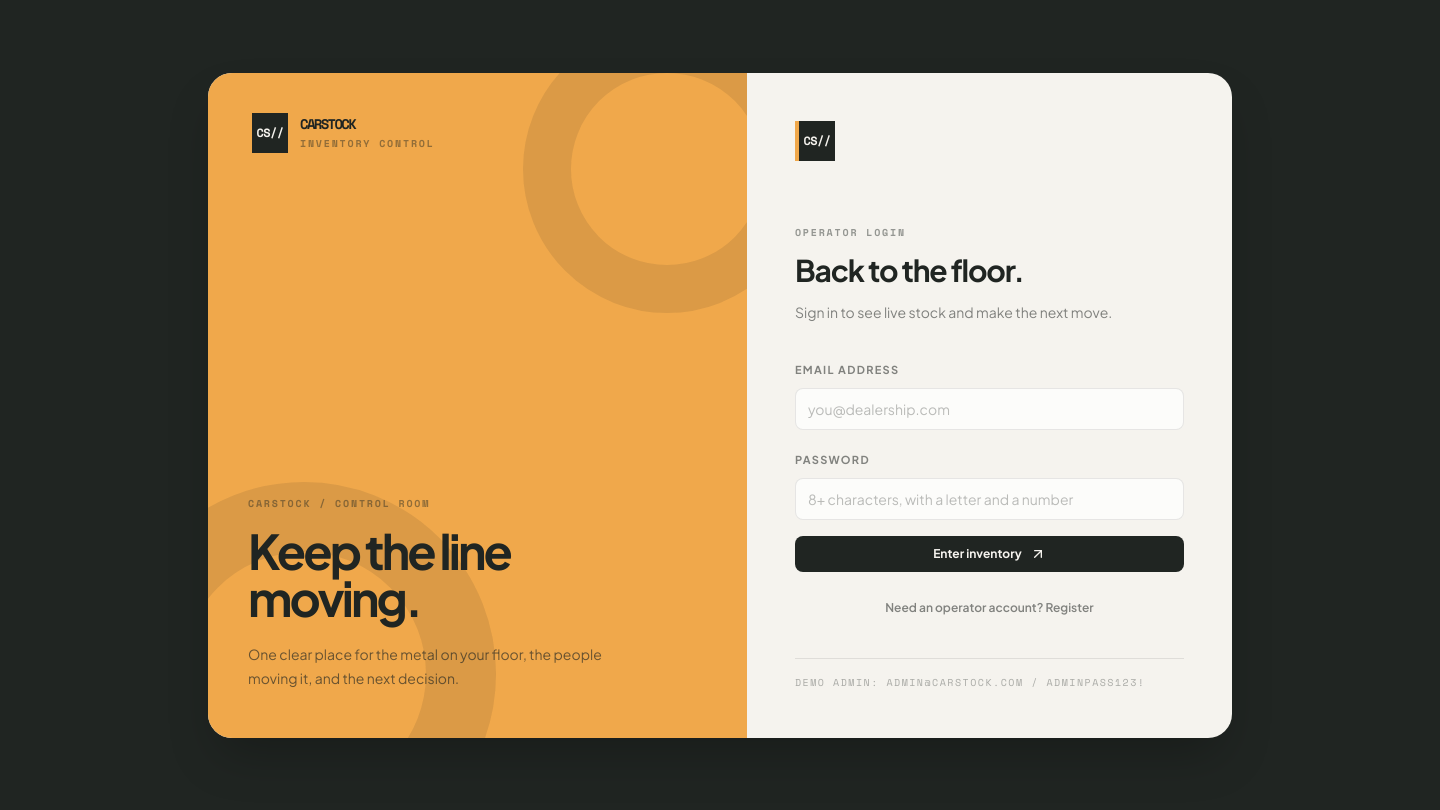
Scenario: AuthScreen › switches to registration and back
Click the button "Need an operator account? Register" at (989, 608), box [795,600,1184,616]
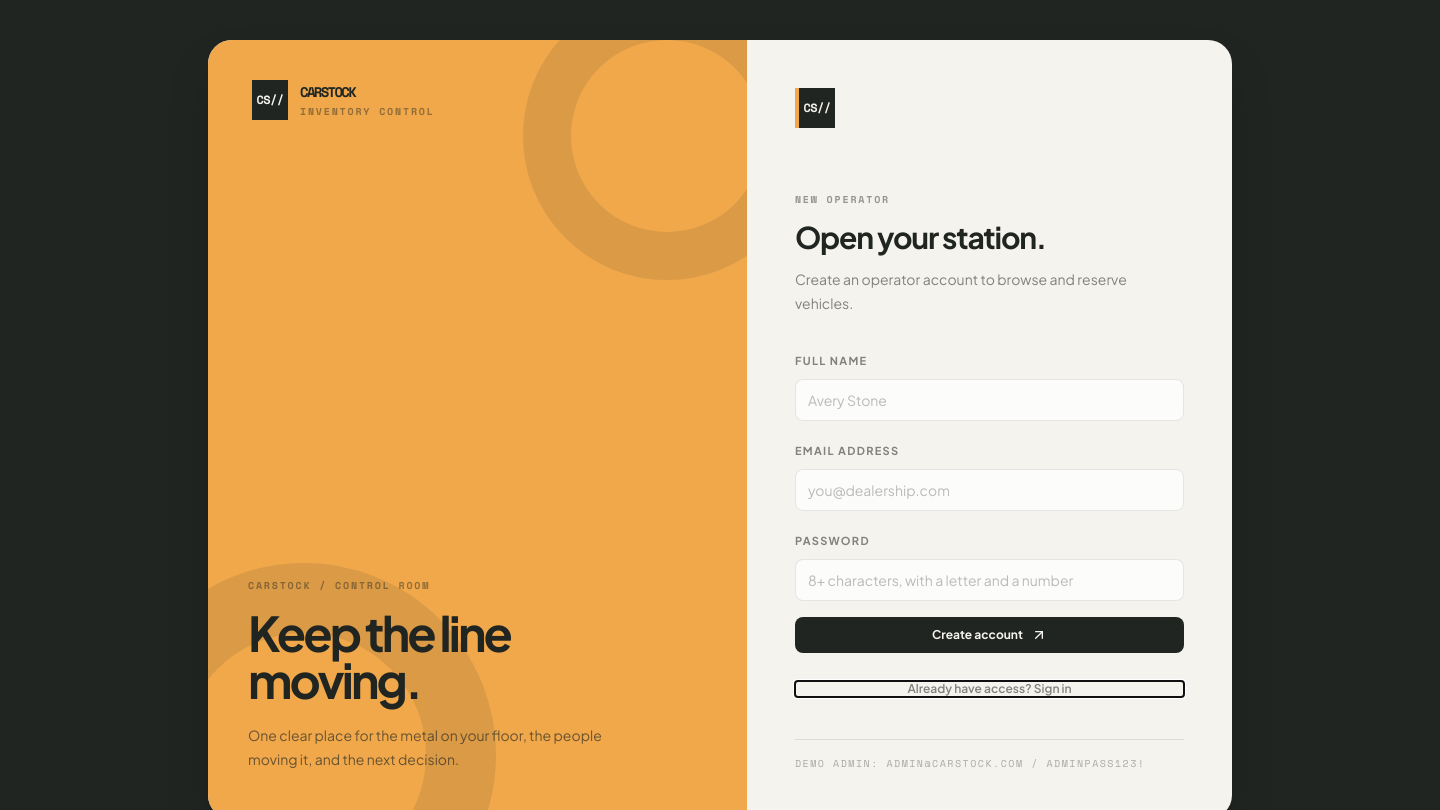
Expected: the heading "Open your station." is shown, [795,218,1046,256]
Expected: the field labelled "Full name" is shown, [795,379,1184,421]
Click the button "Already have access? Sign in" at (989, 689), box [795,681,1184,697]
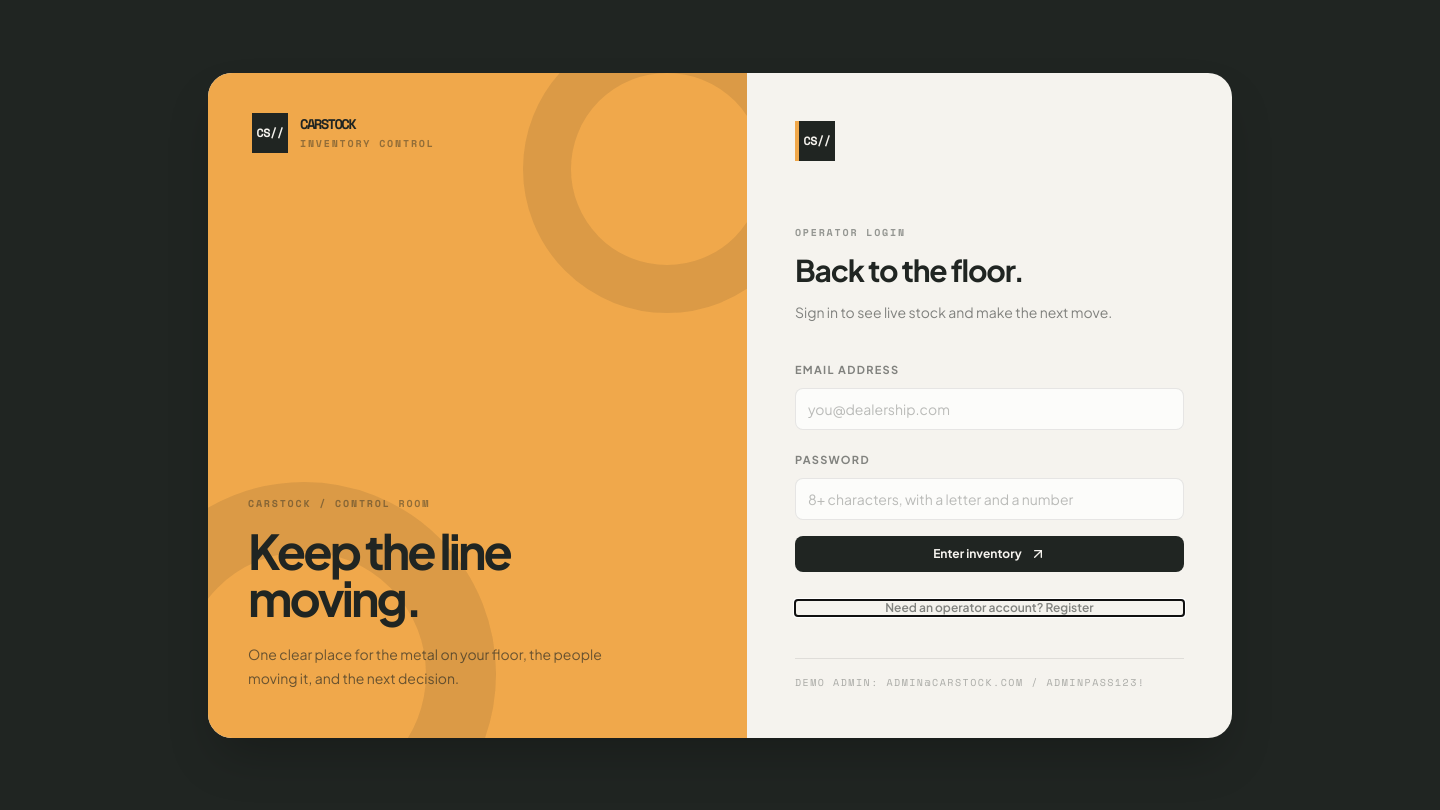
Expected: the heading "Back to the floor." is shown, [795,250,1024,288]
